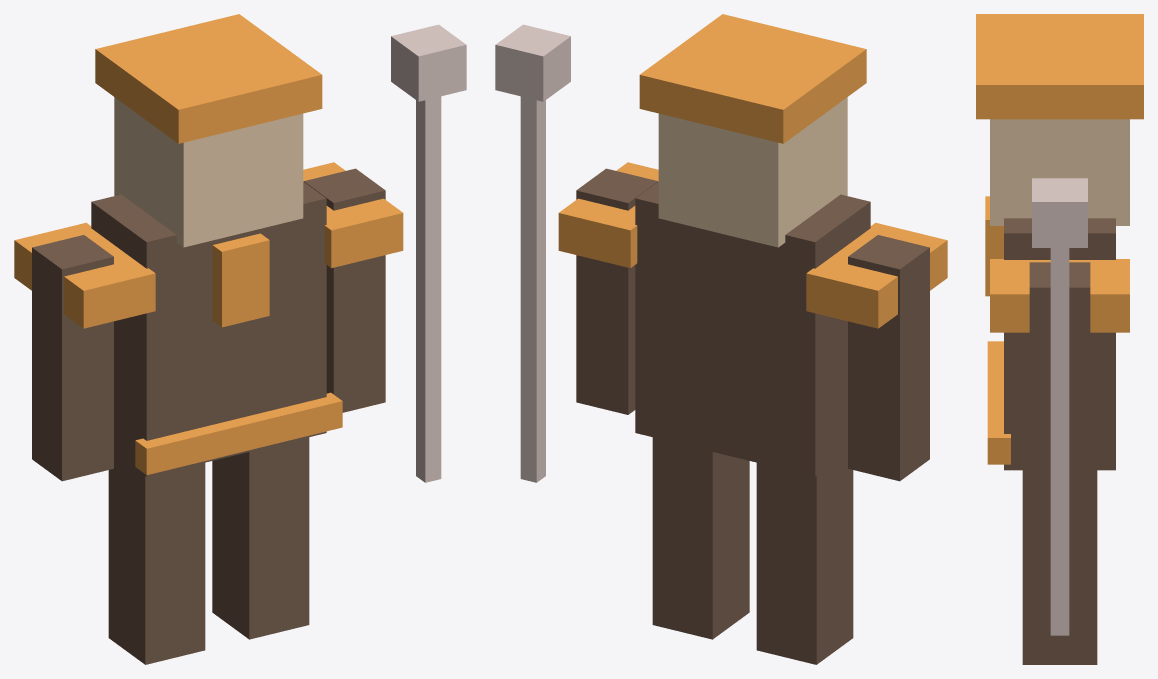
The model's file is 16_ossa_deepwell_sentinel_from_scribes.glb.
The picture shows the model from 3 angles, left to right: view 1: azimuth 30°, elevation 25°; view 2: azimuth 150°, elevation 25°; view 3: azimuth 270°, elevation 25°; orthographic projection.
Parts seen in each view (by area): view 1: Ossa Deepwell, Sentinel from Scribes'; view 2: Ossa Deepwell, Sentinel from Scribes'; view 3: Ossa Deepwell, Sentinel from Scribes'.
Boxes of the visible parts, bbox=[...] form: Ossa Deepwell, Sentinel from Scribes': bbox=[14, 14, 466, 664]; Ossa Deepwell, Sentinel from Scribes': bbox=[495, 14, 947, 664]; Ossa Deepwell, Sentinel from Scribes': bbox=[976, 14, 1143, 664].
Size of the model in its own units: 1.11 by 1.48 by 0.3921.
